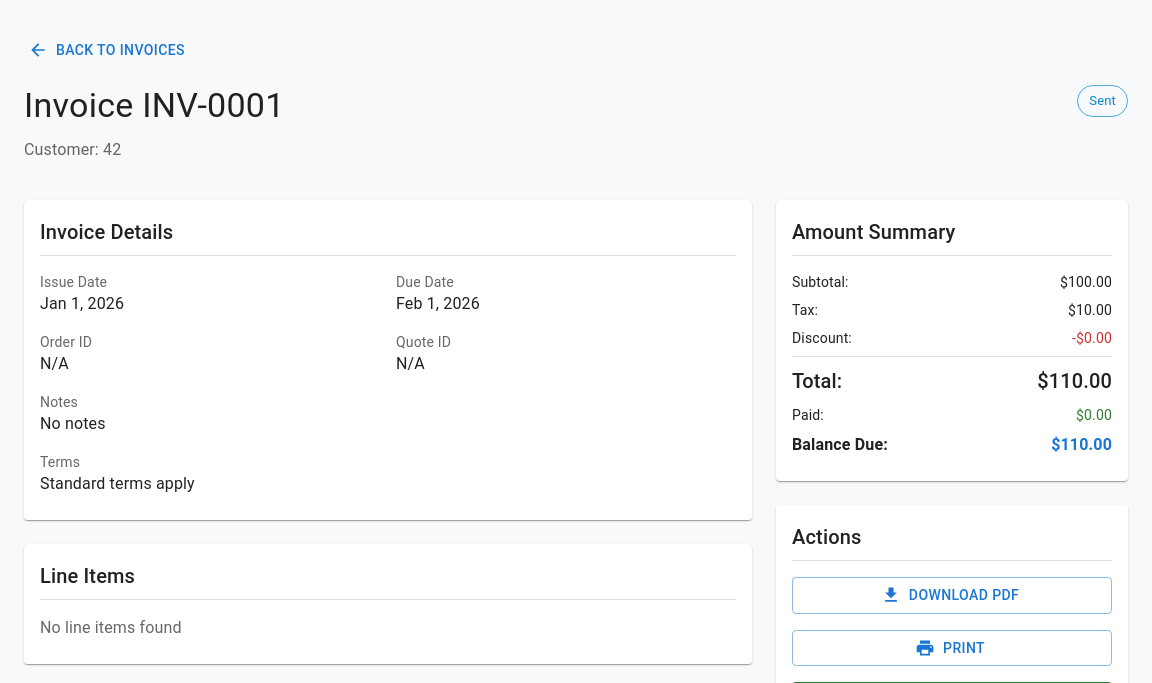
Test: InvoiceDetailsPage › shows an error message when the PDF download fails
The width and height of the screenshot is (1152, 683).
Click the button "Download PDF" at (952, 595), box x1=792 y1=577 x2=1112 y2=614
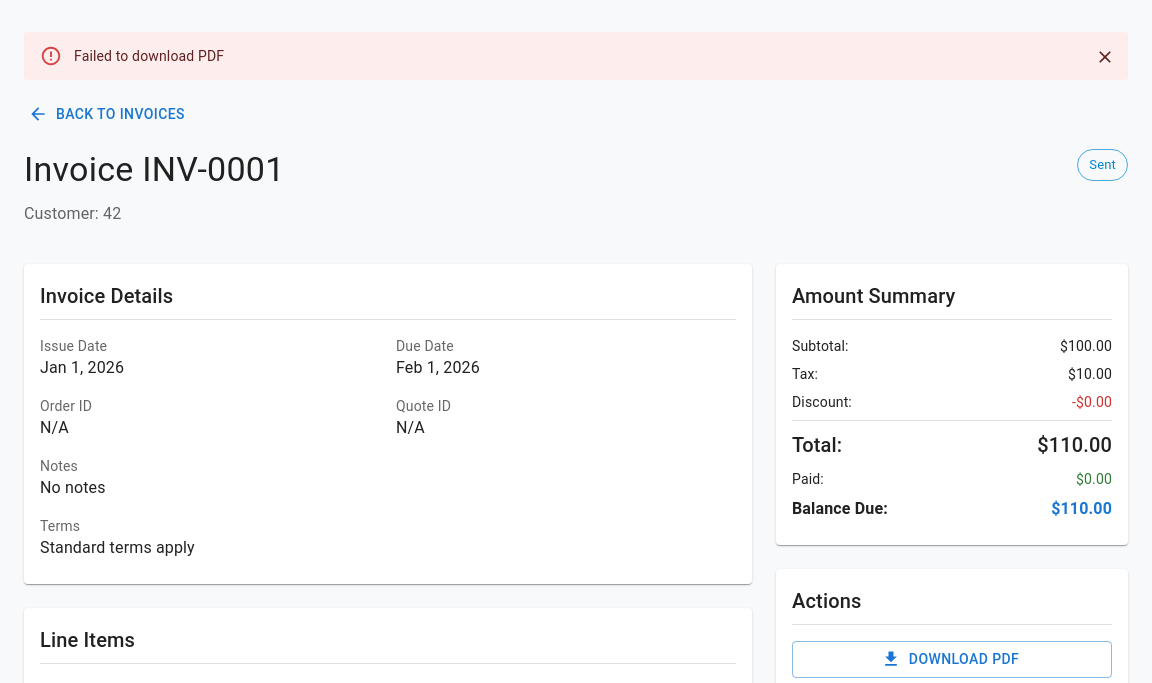
Now the text "Failed to download PDF" is shown, box x1=74 y1=48 x2=224 y2=64
